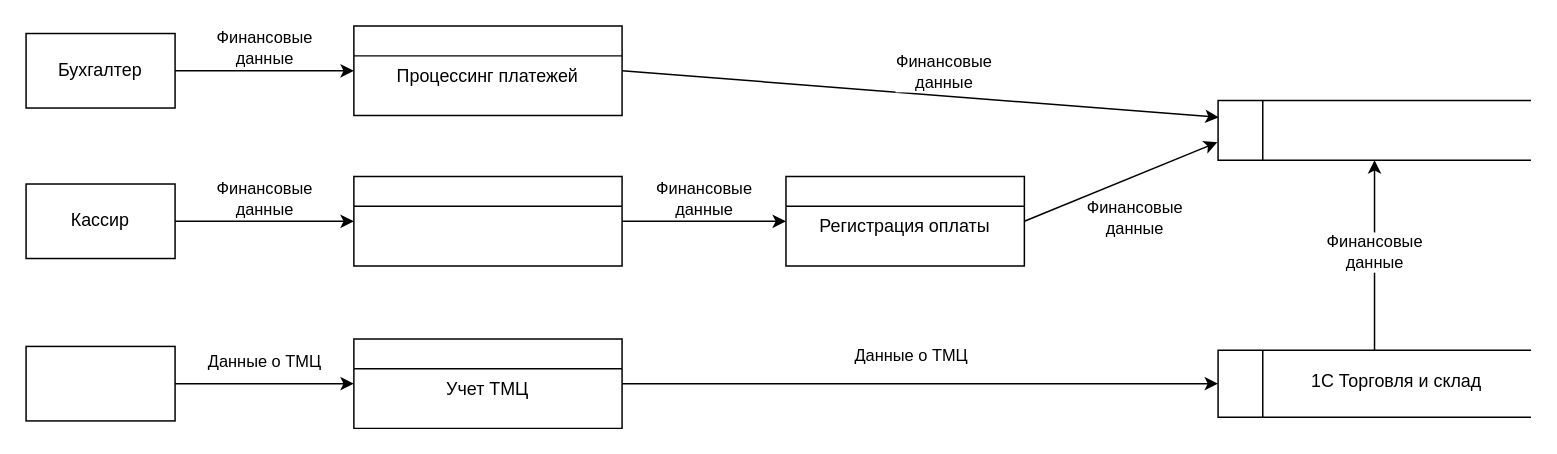
Some shapes in this 1557 by 454 pixel diagram are drawn without their labels. The box of each missing label's shape, as (x1, y1, x2, y2) in pixels:
1C Бухгалтерия предприятия: (1217, 99, 1531, 160)
Принятие оплаты: (352, 175, 622, 266)
Сотрудник склада: (25, 345, 175, 421)
